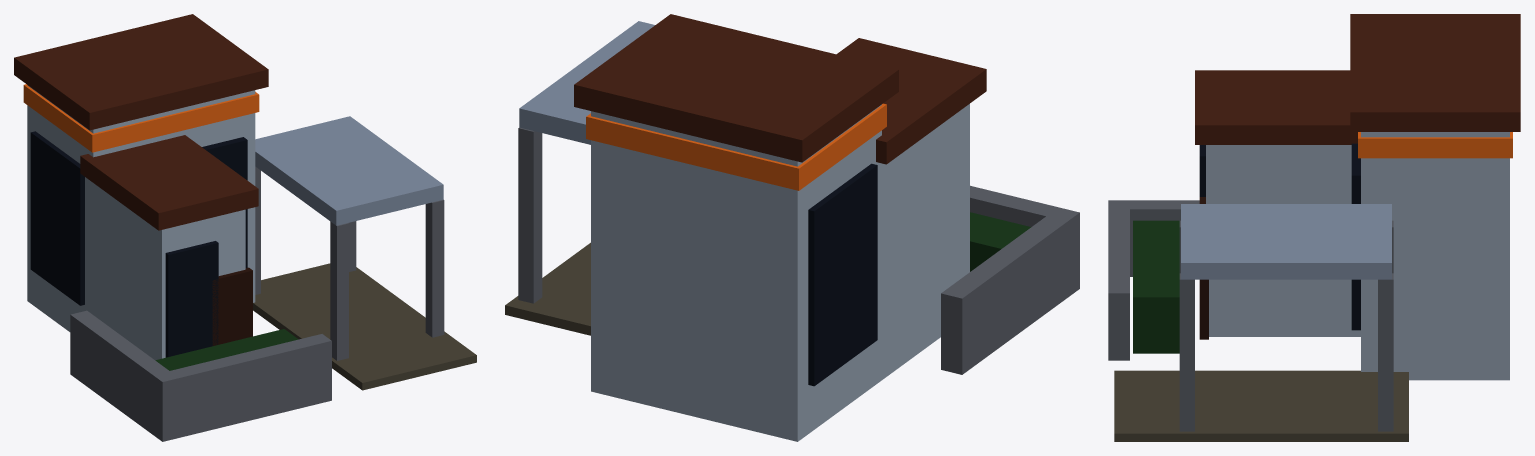
The model's file is house5.obj.
3 renders of one model, left to right at view 1: azimuth 30°, elevation 25°; view 2: azimuth 150°, elevation 25°; view 3: azimuth 270°, elevation 25°, orthographic. The views are drawn at different scales.
Visible parts, largest first — view 1: roof-caps, wings, garden-wall, glazing, drive, carport-roof, carport-posts, clerestory, door, hedge; view 2: wings, roof-caps, garden-wall, glazing, clerestory, carport-posts, carport-roof, drive, hedge; view 3: wings, roof-caps, drive, carport-roof, hedge, carport-posts, garden-wall, clerestory, glazing, door.
Part boxes in pixels (x1=…): roof-caps: x1=14, y1=14, x2=268, y2=230; wings: x1=27, y1=85, x2=255, y2=360; garden-wall: x1=70, y1=310, x2=331, y2=441; glazing: x1=30, y1=131, x2=247, y2=357; drive: x1=253, y1=263, x2=476, y2=390; carport-roof: x1=255, y1=116, x2=443, y2=225; carport-posts: x1=255, y1=166, x2=444, y2=360; clerestory: x1=23, y1=84, x2=259, y2=152; door: x1=212, y1=267, x2=252, y2=345; hedge: x1=155, y1=329, x2=298, y2=370; wings: x1=591, y1=104, x2=969, y2=441; roof-caps: x1=574, y1=14, x2=986, y2=164; garden-wall: x1=941, y1=185, x2=1079, y2=374; glazing: x1=808, y1=163, x2=877, y2=386; clerestory: x1=586, y1=103, x2=886, y2=190; carport-posts: x1=518, y1=127, x2=542, y2=303; carport-roof: x1=519, y1=21, x2=654, y2=144; drive: x1=505, y1=242, x2=590, y2=335; hedge: x1=970, y1=212, x2=1031, y2=271; wings: x1=1206, y1=132, x2=1509, y2=380; roof-caps: x1=1195, y1=14, x2=1520, y2=144; drive: x1=1114, y1=370, x2=1408, y2=441; carport-roof: x1=1181, y1=204, x2=1391, y2=279; hedge: x1=1133, y1=220, x2=1179, y2=353; carport-posts: x1=1179, y1=220, x2=1393, y2=431; garden-wall: x1=1108, y1=200, x2=1199, y2=360; clerestory: x1=1358, y1=132, x2=1512, y2=158; glazing: x1=1199, y1=143, x2=1360, y2=330; door: x1=1199, y1=197, x2=1208, y2=339.
Size of the model in its own units: 2.66 by 1.94 by 2.66.
